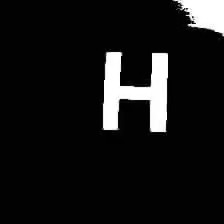LTR_H: (90, 44, 177, 138)
